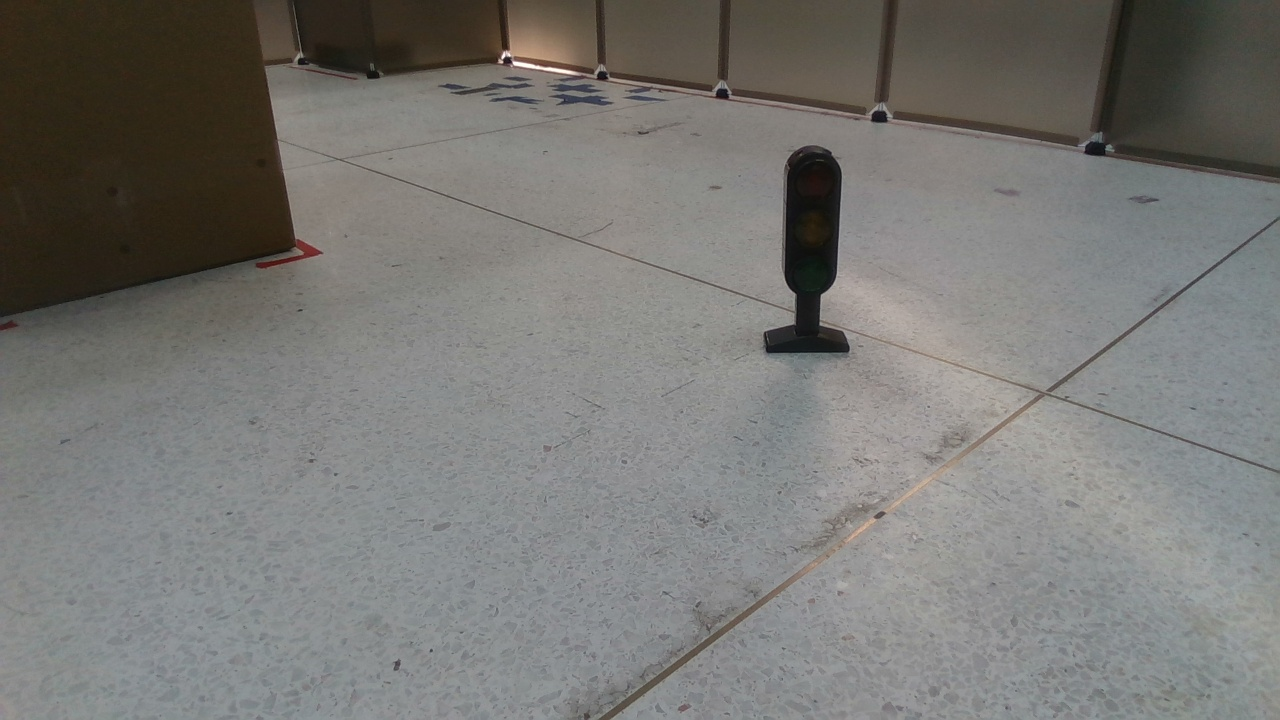Dim traffic light: (757, 145, 856, 360)
